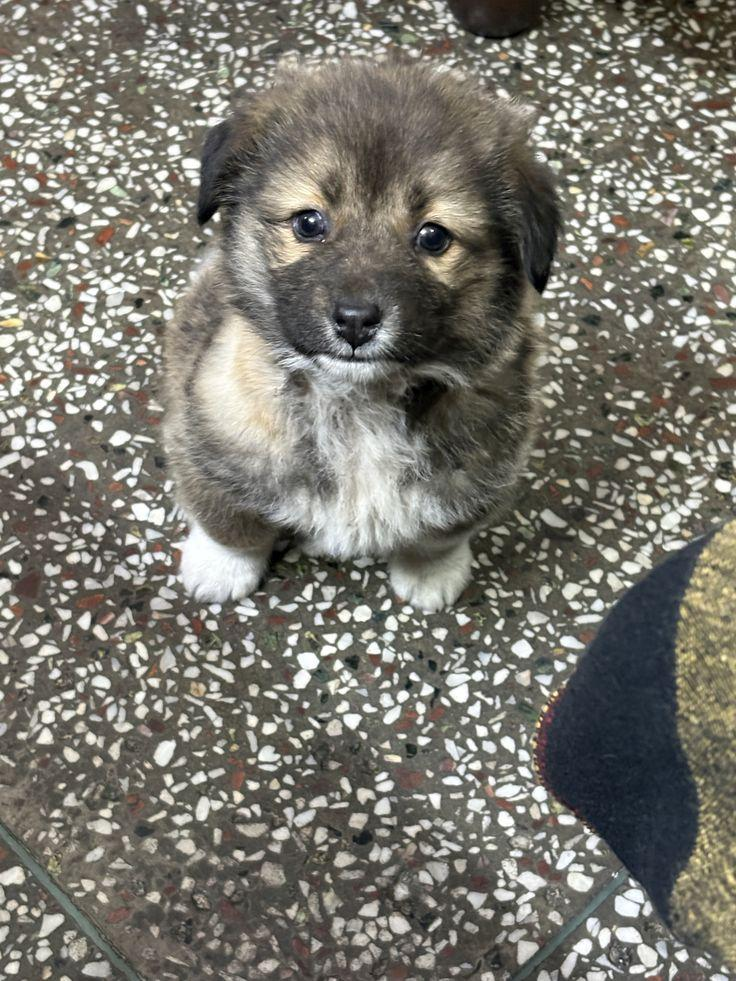dog: (164, 60, 557, 609)
